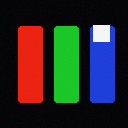1 square: (93, 25, 109, 41)
